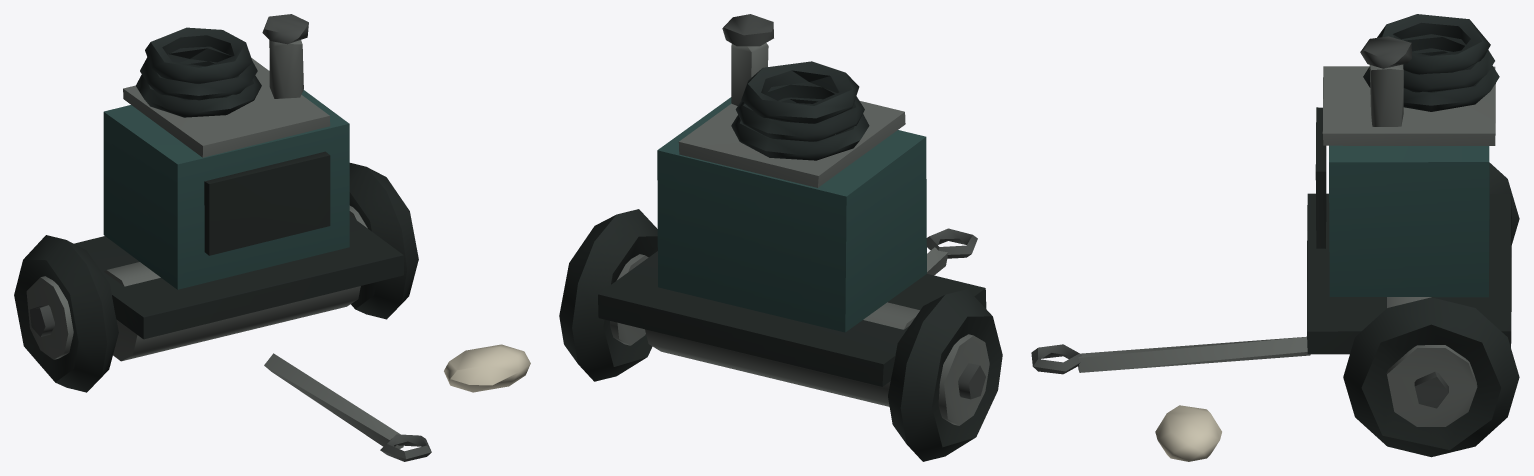
Rendered from compressor_cart_a_lod1.glb.
3 renders of one model, left to right at view 1: azimuth 30°, elevation 25°; view 2: azimuth 150°, elevation 25°; view 3: azimuth 270°, elevation 25°, orthographic. The views are drawn at different scales.
Visible parts, largest first — view 1: Surface.001; view 2: Surface.001; view 3: Surface.001.
Part boxes in pixels (x1,y1,x2,y2): Surface.001: (14, 14, 530, 461); Surface.001: (559, 14, 1002, 461); Surface.001: (1031, 14, 1519, 461).
Size of the model in its own units: 3.2 by 2.69 by 3.32.
